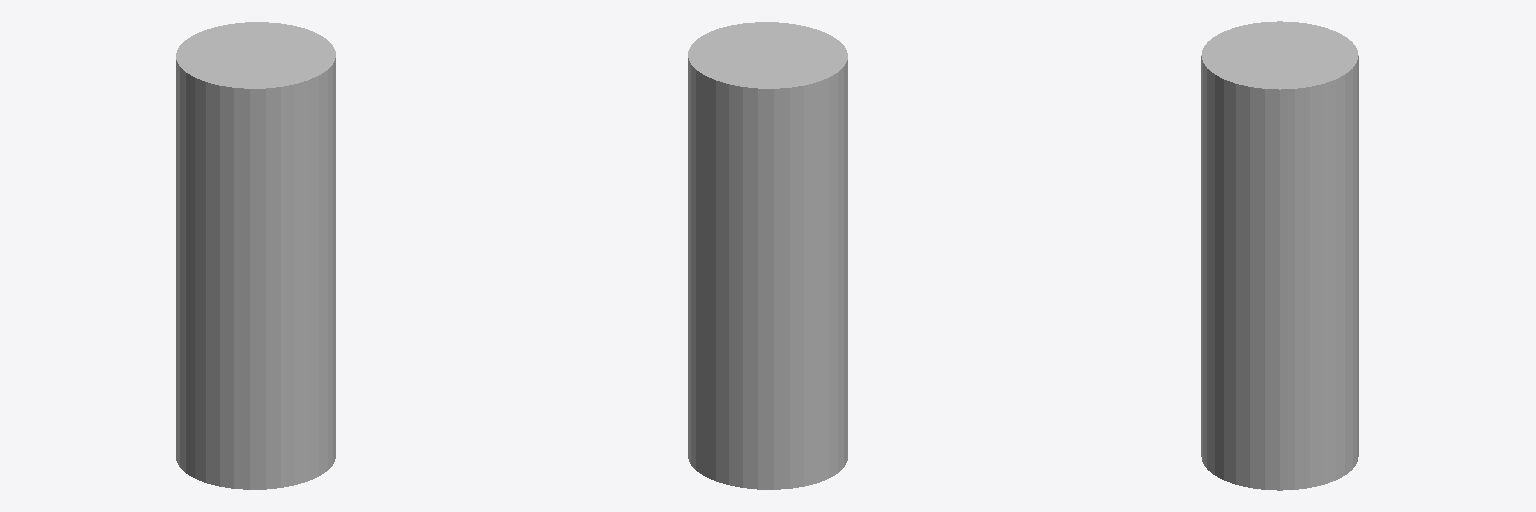
Rendered from walec2.obj.
The picture shows the model from 3 angles: view 1: azimuth 30°, elevation 25°; view 2: azimuth 150°, elevation 25°; view 3: azimuth 270°, elevation 25°; orthographic projection.
Visible parts, largest first — view 1: Cylinder; view 2: Cylinder; view 3: Cylinder.
Part boxes in pixels (x1,y1,x2,y2): Cylinder: (176,22,335,489); Cylinder: (688,22,847,489); Cylinder: (1201,21,1358,490).
Bounding box in the file's own units: 1.1 × 3.03 × 1.08.